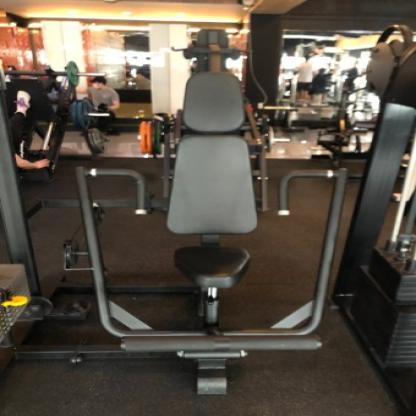Chest Press machine: (6, 26, 416, 407)
